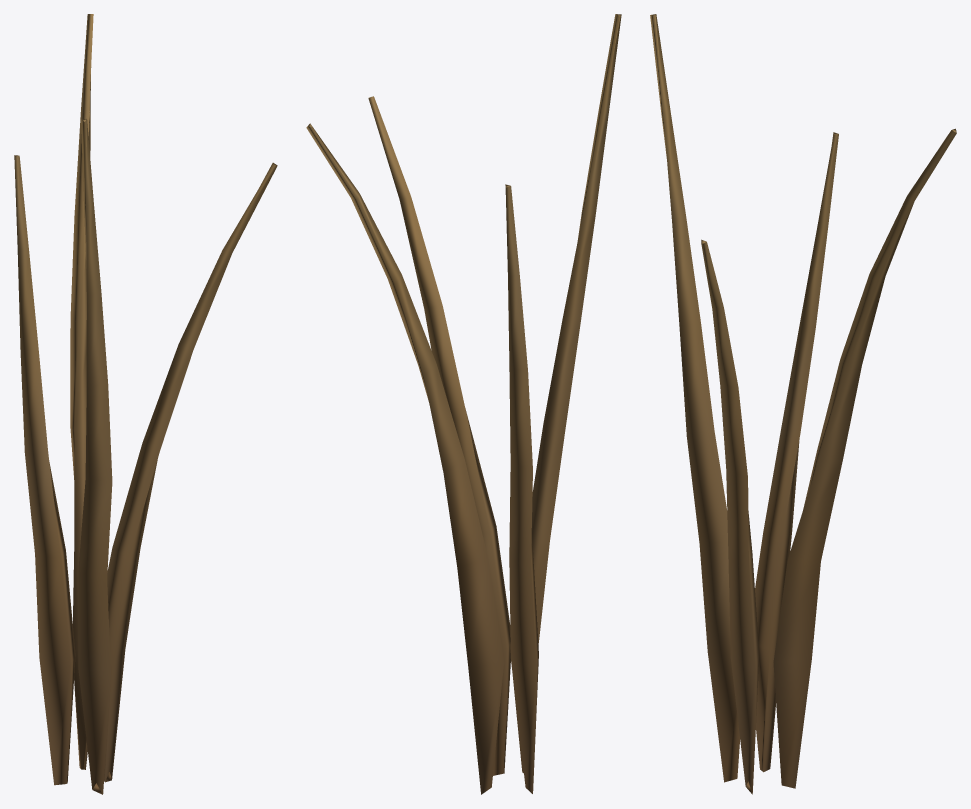
File: trees-grasses-dry-grass-blades_v6.glb
3 views of the same model, side by side, from view 1: azimuth 30°, elevation 25°; view 2: azimuth 150°, elevation 25°; view 3: azimuth 270°, elevation 25° (orthographic). The views are drawn at different scales.
Parts seen in each view (by area): view 1: Dry Grass Blades_v6; view 2: Dry Grass Blades_v6; view 3: Dry Grass Blades_v6.
Part boxes in pixels (left/top/right/bottom): Dry Grass Blades_v6: left=14, top=14, right=277, bottom=794; Dry Grass Blades_v6: left=306, top=14, right=621, bottom=794; Dry Grass Blades_v6: left=650, top=14, right=956, bottom=794.
Size of the model in its own units: 0.1921 by 0.6 by 0.2249.
